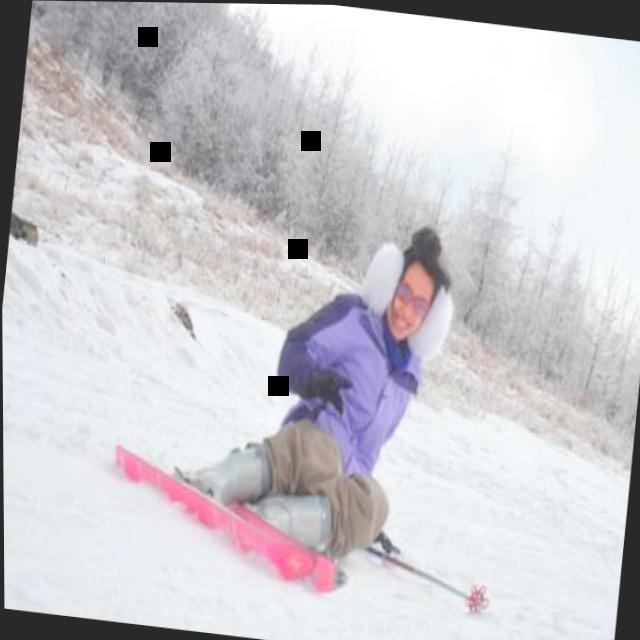Fall-Detected: (167, 176, 472, 589)
